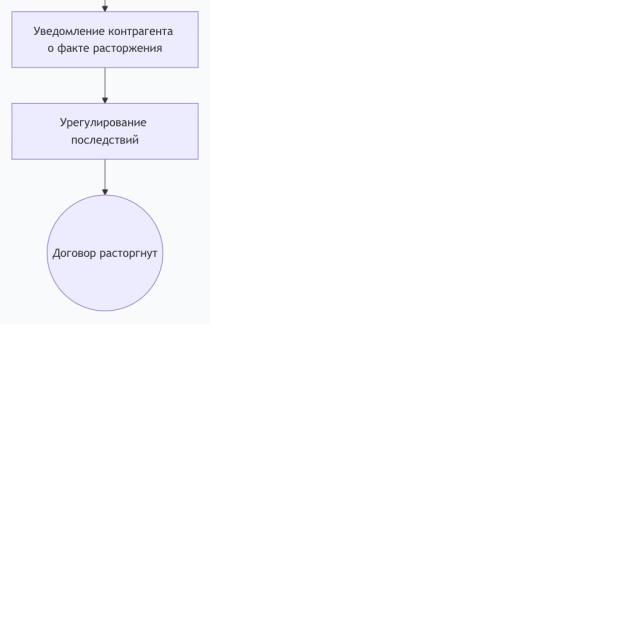arrow: (103, 160, 108, 194), (104, 69, 106, 94)
circle: (48, 195, 163, 311)
rectangle: (12, 103, 199, 160), (12, 12, 198, 68)
